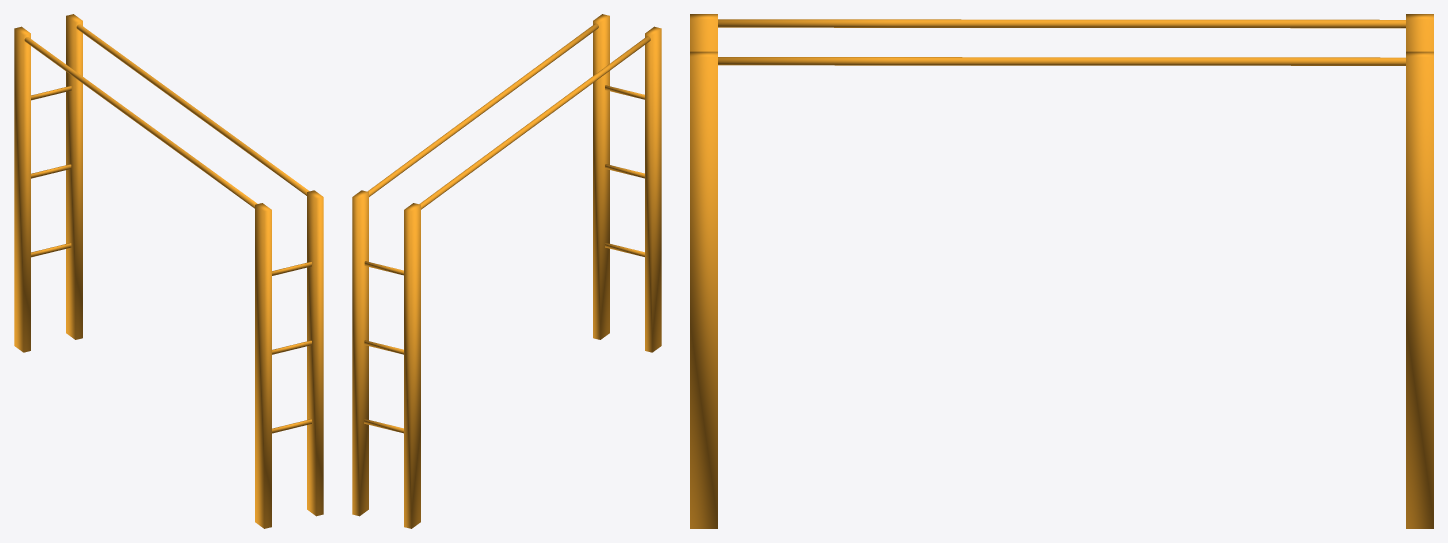
3 renders of one model, left to right at view 1: azimuth 30°, elevation 25°; view 2: azimuth 150°, elevation 25°; view 3: azimuth 270°, elevation 25°, orthographic. The views are drawn at different scales.
Visible parts, largest first — view 1: Box9916, Box9917, Box9845, Box9887, Cylinder286, Cylinder285; view 2: Box9917, Box9916, Box9887, Box9845, Cylinder286, Cylinder285; view 3: Box9845, Box9887, Cylinder286, Cylinder285, Box9916, Box9917.
Part boxes in pixels (<box>): Box9916: <box>255,203,271,528</box>; Box9917: <box>14,26,30,352</box>; Box9845: <box>307,190,323,516</box>; Box9887: <box>66,14,82,339</box>; Cylinder286: <box>24,37,257,208</box>; Cylinder285: <box>76,24,309,195</box>; Box9917: <box>404,203,420,528</box>; Box9916: <box>645,26,661,352</box>; Box9887: <box>352,190,368,516</box>; Box9845: <box>593,14,609,339</box>; Cylinder286: <box>419,36,650,209</box>; Cylinder285: <box>367,23,598,196</box>; Box9845: <box>690,51,717,528</box>; Box9887: <box>1406,51,1433,528</box>; Cylinder286: <box>718,19,1405,28</box>; Cylinder285: <box>718,57,1405,65</box>; Box9916: <box>690,14,717,51</box>; Box9917: <box>1406,14,1433,51</box>.
Size of the model in its own units: 724 by 3693 by 5278.
1 material, 1 textured.
